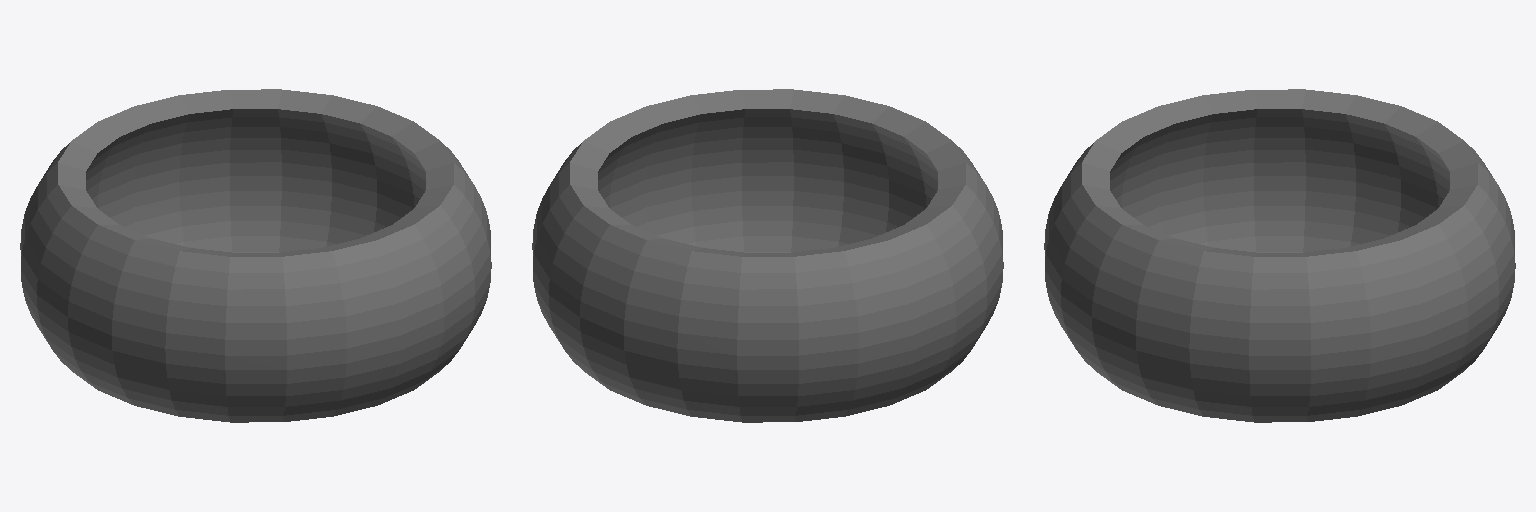
URDF robot description (object):
<?xml version="1.0"?>
<robot name="object">
  <link name="object">
    <visual>
      <origin xyz="0 0 0"/>
      <geometry>
        <mesh
          filename="../../mesh/oakink_virtual/bowl_s131.stl" />
      </geometry>
      <material name="mat">
        <color rgba="0.5 0.5 0.5 1"/>
      </material>
    </visual>

    <collision>
      <origin xyz="0 0 0"/>
      <geometry>
        <mesh
          filename="../../mesh/oakink_virtual/bowl_s131.stl" />
      </geometry>
    </collision>
  </link>
</robot>

--- What the picture shows (computed from the rendered views, not written in the file) ---
Views: 3 orthographic renders of the robot side by side, from view 1: azimuth 30°, elevation 25°; view 2: azimuth 150°, elevation 25°; view 3: azimuth 270°, elevation 25°.
Model object with 1 links and 0 joints (none), rooted at object, posed every joint at zero.
Links seen in each view (by area): view 1: object; view 2: object; view 3: object.
Link boxes in pixels (box(x1,y1,x2,y2)): object: box(20, 89, 491, 422); object: box(532, 89, 1003, 422); object: box(1044, 89, 1515, 422).
Bounding box of the posed robot: 0.1578 × 0.1578 × 0.0612 m (x, y, z).
1 mesh visuals loaded from 1 distinct referenced files (1 binary STL).